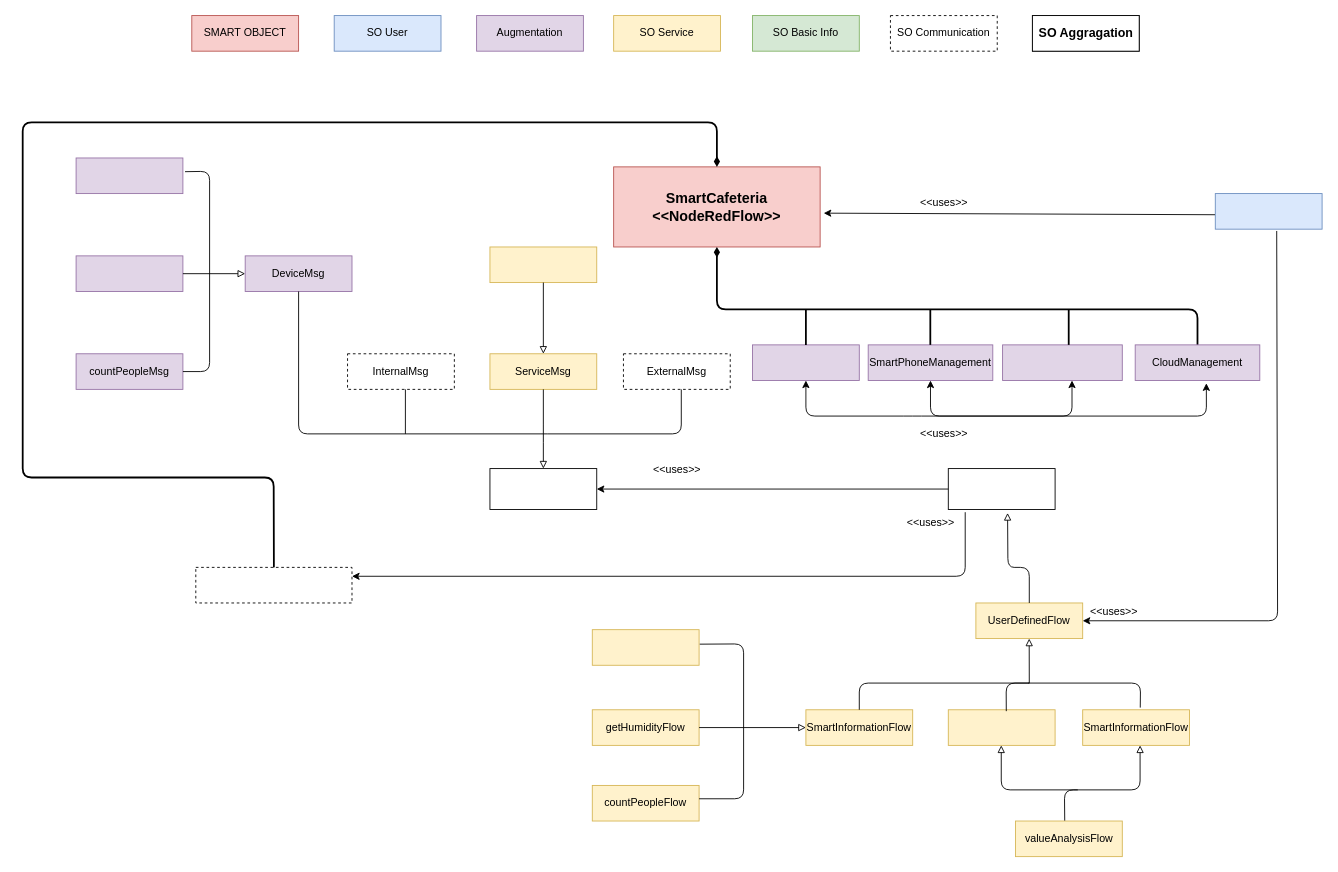
This 1338x872 diagram has some shape labels left out. Each missing label, with the centre of its shape:
"ArduinoManagement" goes at (x=805, y=362).
"CommunicationManagement SubSystem" goes at (x=273, y=584).
"FLOW" goes at (x=1001, y=489).
"getTemperatureFlow" goes at (x=645, y=647).
"HumidityMsg" goes at (x=129, y=273).
"MSG" goes at (x=543, y=489).
"NodeRed User" goes at (x=1268, y=211).
"RaspberryManagement" goes at (x=1062, y=362).
"SmartAlertFlow" goes at (x=1001, y=727).
"TemperatureMsg" goes at (x=129, y=175).
"valueAnalysisMsg" goes at (x=543, y=264).
